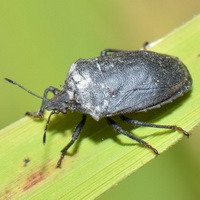insect: (0, 111, 154, 199), (132, 53, 199, 129), (123, 123, 181, 151)
